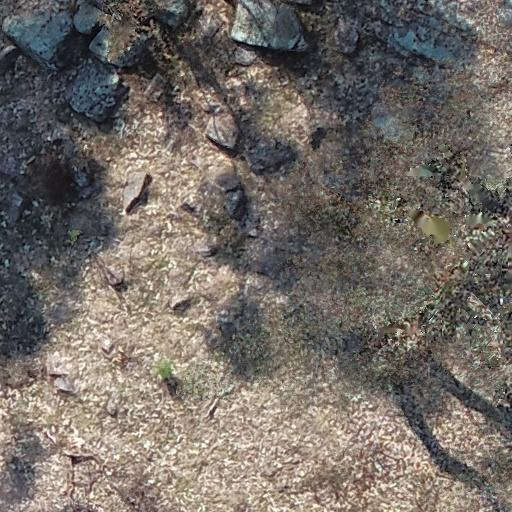stone: (189, 167, 251, 230), (201, 103, 245, 158), (121, 169, 154, 214), (95, 257, 130, 290), (205, 384, 235, 418), (142, 72, 172, 106), (174, 264, 198, 300), (215, 310, 239, 340), (45, 353, 72, 377), (232, 45, 259, 67), (52, 376, 80, 396), (169, 292, 193, 312), (198, 242, 219, 261), (104, 396, 124, 414), (100, 337, 116, 353), (180, 201, 197, 214), (245, 228, 260, 240)
